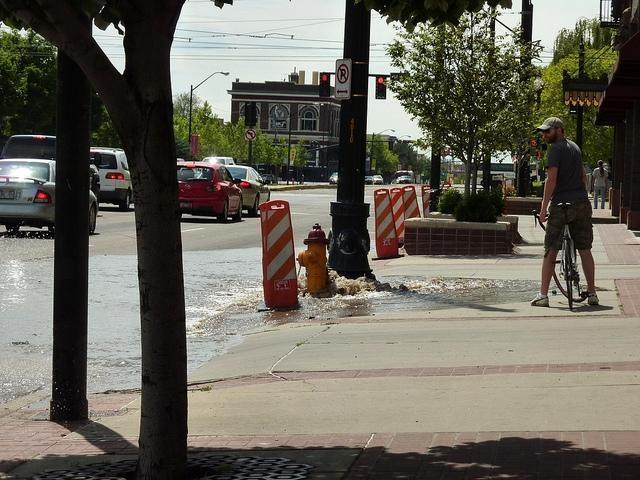bicycle: (532, 202, 588, 310)
car: (0, 158, 99, 232), (176, 160, 250, 224), (90, 150, 130, 208), (230, 165, 272, 217), (1, 135, 56, 160), (391, 169, 416, 184), (327, 172, 338, 184), (373, 175, 383, 185), (364, 176, 374, 184)
